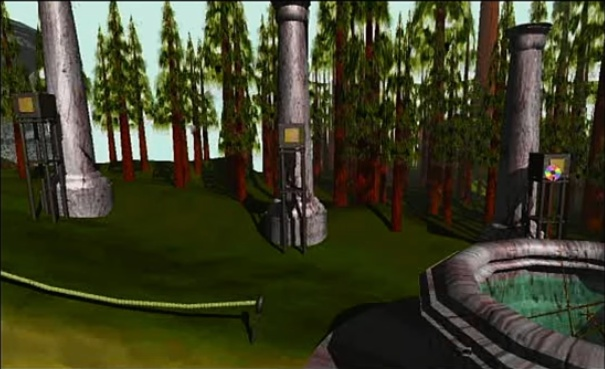Waiting: (542, 162, 563, 183)
